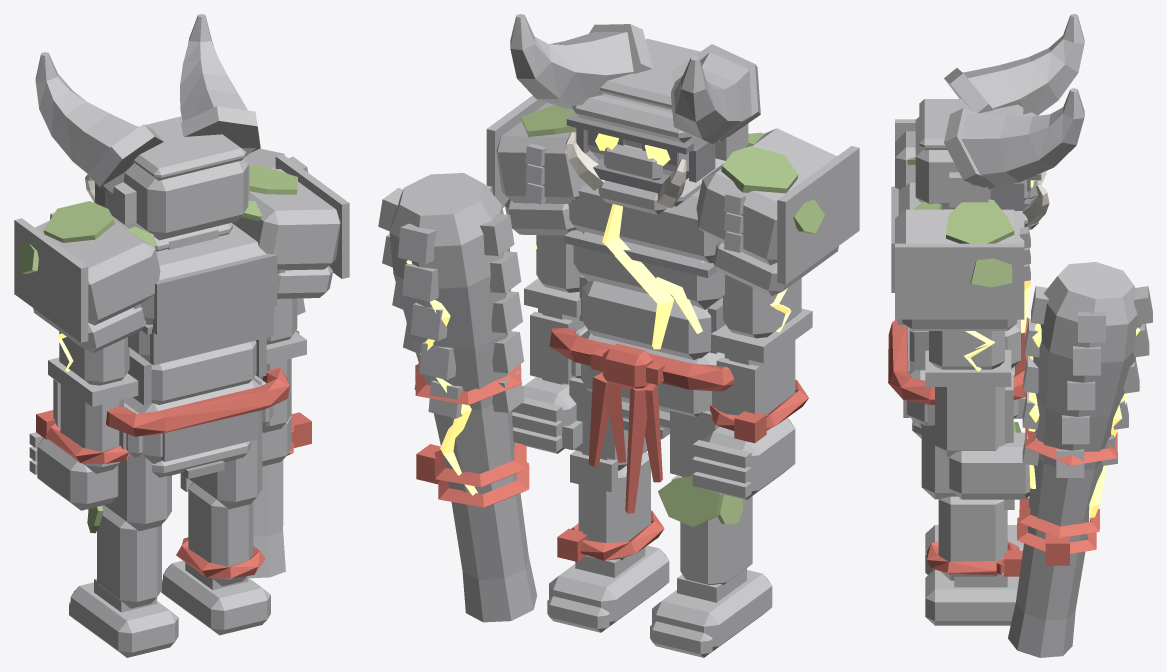
Rendered from Kabuto.fbx.
The picture shows the model from 3 angles, left to right: view 1: azimuth 30°, elevation 25°; view 2: azimuth 150°, elevation 25°; view 3: azimuth 270°, elevation 25°; orthographic projection. The views are drawn at different scales.
Visible parts, largest first — view 1: Kabuto_Pauldron_L_Stone, Kabuto_TorsoDark_StoneDark, Kabuto_Head_Stone, Kabuto_Pauldron_R_Stone, Kabuto_Torso_Stone, Kabuto_Horn_L_Stone, Kabuto_Horn_R_Stone, Kabuto_LegLower_L_Stone, Kabuto_Foot_L_Stone, Kabuto_Foot_R_Stone, Kabuto_Belt_Rope, Kabuto_LegLower_R_Stone (+17 smaller); view 2: Kabuto_Club_Stone, Kabuto_Pauldron_L_Stone, Kabuto_Torso_Stone, Kabuto_Belt_Rope, Kabuto_Pauldron_R_Stone, Kabuto_Head_Stone, Kabuto_Horn_R_Stone, Kabuto_Foot_L_Stone, Kabuto_Foot_R_Stone, Kabuto_Horn_L_Stone, Kabuto_Fist_L_Stone, Kabuto_ArmUpper_L_Stone (+21 smaller); view 3: Kabuto_Club_Stone, Kabuto_Pauldron_R_Stone, Kabuto_Horn_R_Stone, Kabuto_Horn_L_Stone, Kabuto_Head_Stone, Kabuto_ArmLower_R_Stone, Kabuto_LegLower_R_Stone, Kabuto_Foot_R_Stone, Kabuto_ArmUpper_R_Stone, Kabuto_Fist_R_Stone, Kabuto_ClubGrip_Rope, Kabuto_Moss_R_Moss (+11 smaller).
Boxes of the visible parts, x1=… form: Kabuto_Pauldron_L_Stone: x1=14, y1=212, x2=160, y2=352; Kabuto_TorsoDark_StoneDark: x1=127, y1=253, x2=285, y2=405; Kabuto_Head_Stone: x1=105, y1=116, x2=249, y2=240; Kabuto_Pauldron_R_Stone: x1=232, y1=154, x2=349, y2=298; Kabuto_Torso_Stone: x1=128, y1=223, x2=278, y2=404; Kabuto_Horn_L_Stone: x1=35, y1=52, x2=163, y2=193; Kabuto_Horn_R_Stone: x1=180, y1=14, x2=260, y2=157; Kabuto_LegLower_L_Stone: x1=97, y1=505, x2=161, y2=608; Kabuto_Foot_L_Stone: x1=69, y1=578, x2=178, y2=657; Kabuto_Foot_R_Stone: x1=161, y1=560, x2=270, y2=635; Kabuto_Belt_Rope: x1=106, y1=367, x2=289, y2=436; Kabuto_LegLower_R_Stone: x1=180, y1=474, x2=253, y2=586; Kabuto_Club_Stone: x1=378, y1=173, x2=537, y2=622; Kabuto_Pauldron_L_Stone: x1=696, y1=128, x2=859, y2=295; Kabuto_Torso_Stone: x1=568, y1=183, x2=724, y2=359; Kabuto_Belt_Rope: x1=549, y1=327, x2=734, y2=513; Kabuto_Pauldron_R_Stone: x1=486, y1=95, x2=598, y2=235; Kabuto_Head_Stone: x1=572, y1=38, x2=748, y2=180; Kabuto_Horn_R_Stone: x1=510, y1=14, x2=652, y2=108; Kabuto_Foot_L_Stone: x1=650, y1=568, x2=772, y2=657; Kabuto_Foot_R_Stone: x1=547, y1=545, x2=669, y2=632; Kabuto_Horn_L_Stone: x1=671, y1=44, x2=760, y2=144; Kabuto_Fist_L_Stone: x1=692, y1=418, x2=795, y2=499; Kabuto_ArmUpper_L_Stone: x1=711, y1=274, x2=812, y2=363; Kabuto_Club_Stone: x1=1008, y1=262, x2=1152, y2=657; Kabuto_Pauldron_R_Stone: x1=895, y1=209, x2=1030, y2=330; Kabuto_Horn_R_Stone: x1=944, y1=88, x2=1084, y2=189; Kabuto_Horn_L_Stone: x1=944, y1=14, x2=1084, y2=115; Kabuto_Head_Stone: x1=915, y1=99, x2=1038, y2=209; Kabuto_ArmLower_R_Stone: x1=935, y1=374, x2=1013, y2=456; Kabuto_LegLower_R_Stone: x1=938, y1=496, x2=1014, y2=580; Kabuto_Foot_R_Stone: x1=925, y1=569, x2=1019, y2=625; Kabuto_ArmUpper_R_Stone: x1=925, y1=331, x2=1011, y2=386; Kabuto_Fist_R_Stone: x1=949, y1=432, x2=1030, y2=499; Kabuto_ClubGrip_Rope: x1=1017, y1=428, x2=1117, y2=565; Kabuto_Moss_R_Moss: x1=913, y1=199, x2=1014, y2=287.
Size of what is drawn, in the model's own units: 6.22 by 9.87 by 4.38.
